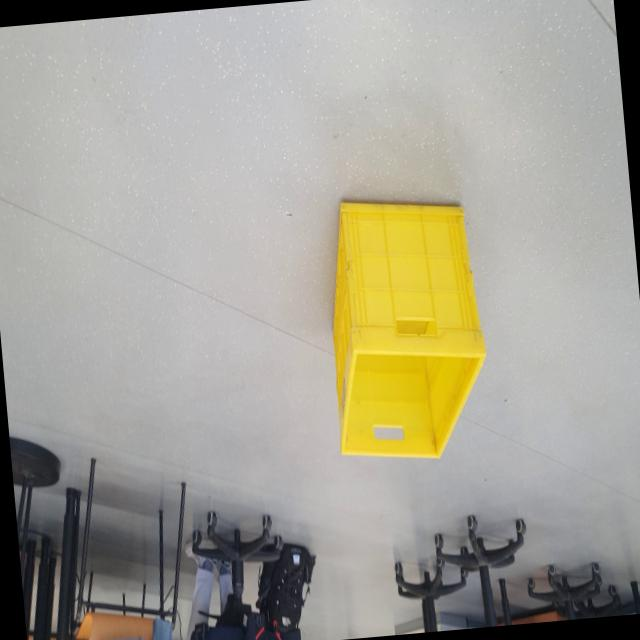box: (312, 165, 499, 494)
